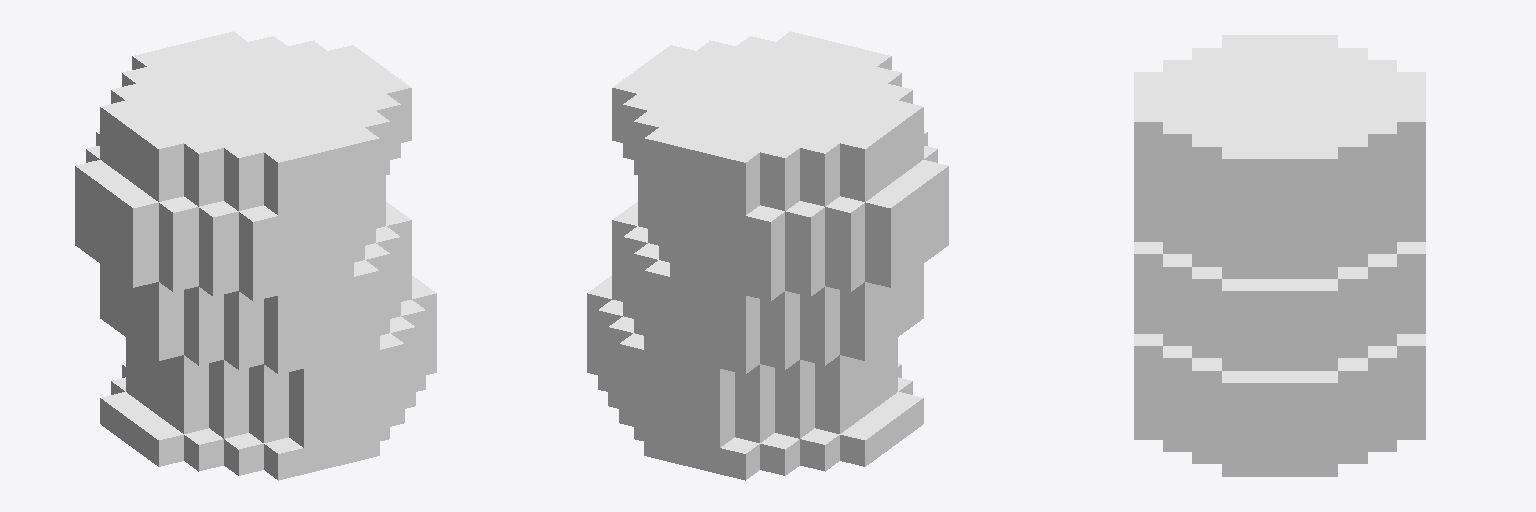
The model's file is body.obj.
The picture shows the model from 3 angles: view 1: azimuth 30°, elevation 25°; view 2: azimuth 150°, elevation 25°; view 3: azimuth 270°, elevation 25°; orthographic projection.
Parts seen in each view (by area): view 1: body; view 2: body; view 3: body.
Part boxes in pixels (left/top/right/bottom): body: left=75, top=31, right=436, bottom=480; body: left=587, top=31, right=948, bottom=480; body: left=1134, top=35, right=1425, bottom=476.
Bounding box in the file's own units: 1 × 1 × 0.8333.